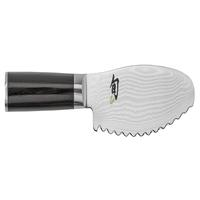knife: (3, 57, 200, 136)
